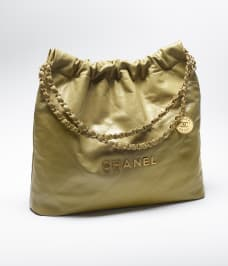channel: (29, 27, 216, 219), (61, 97, 104, 138), (91, 153, 166, 176), (171, 120, 192, 139)
